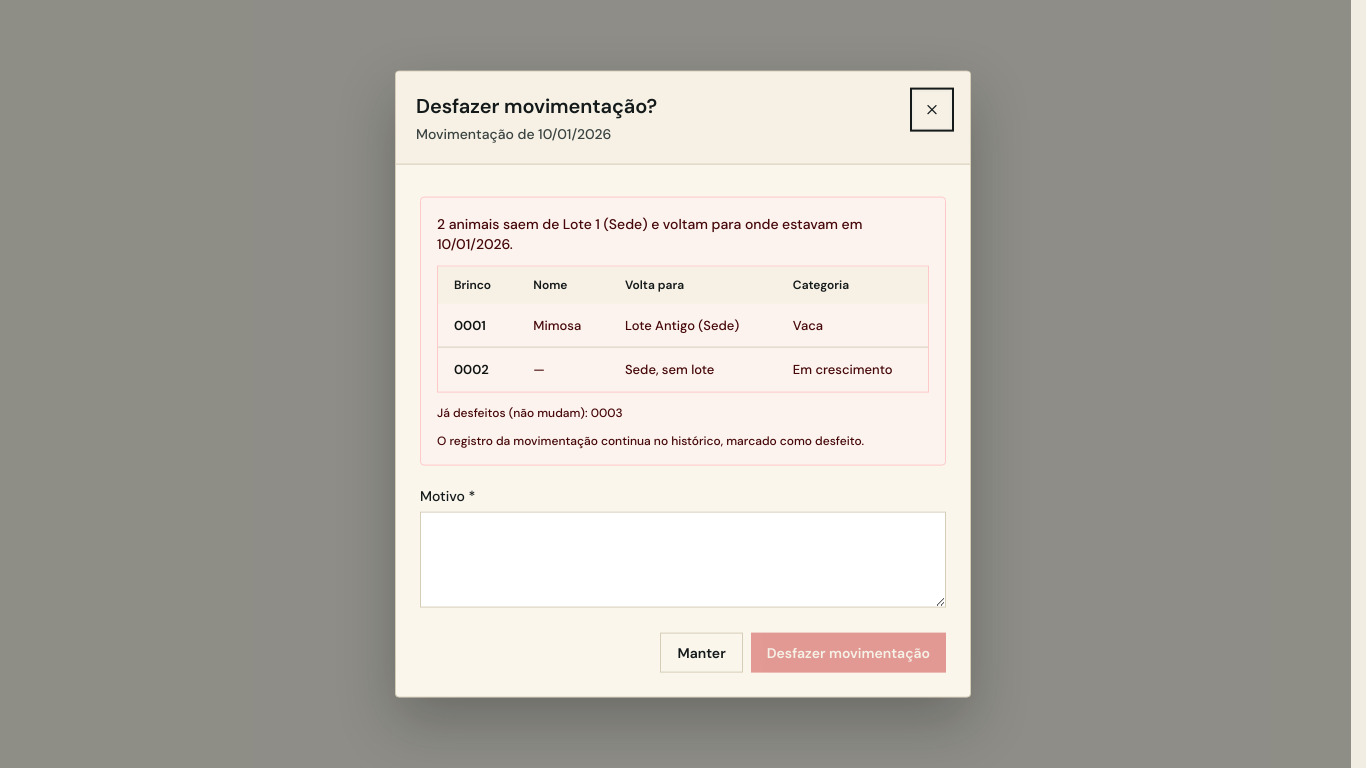
Test: ConfirmarDesfazerMovimentacao › erro 409 do servidor aparece na modal sem fechar
Expected: the button "0001" is shown, [454,315,486,335]
Type "Motivo do estorno" into the text box labelled "Motivo".
click(683, 559); type("Motivo do estorno")  # box [420,511,946,607]
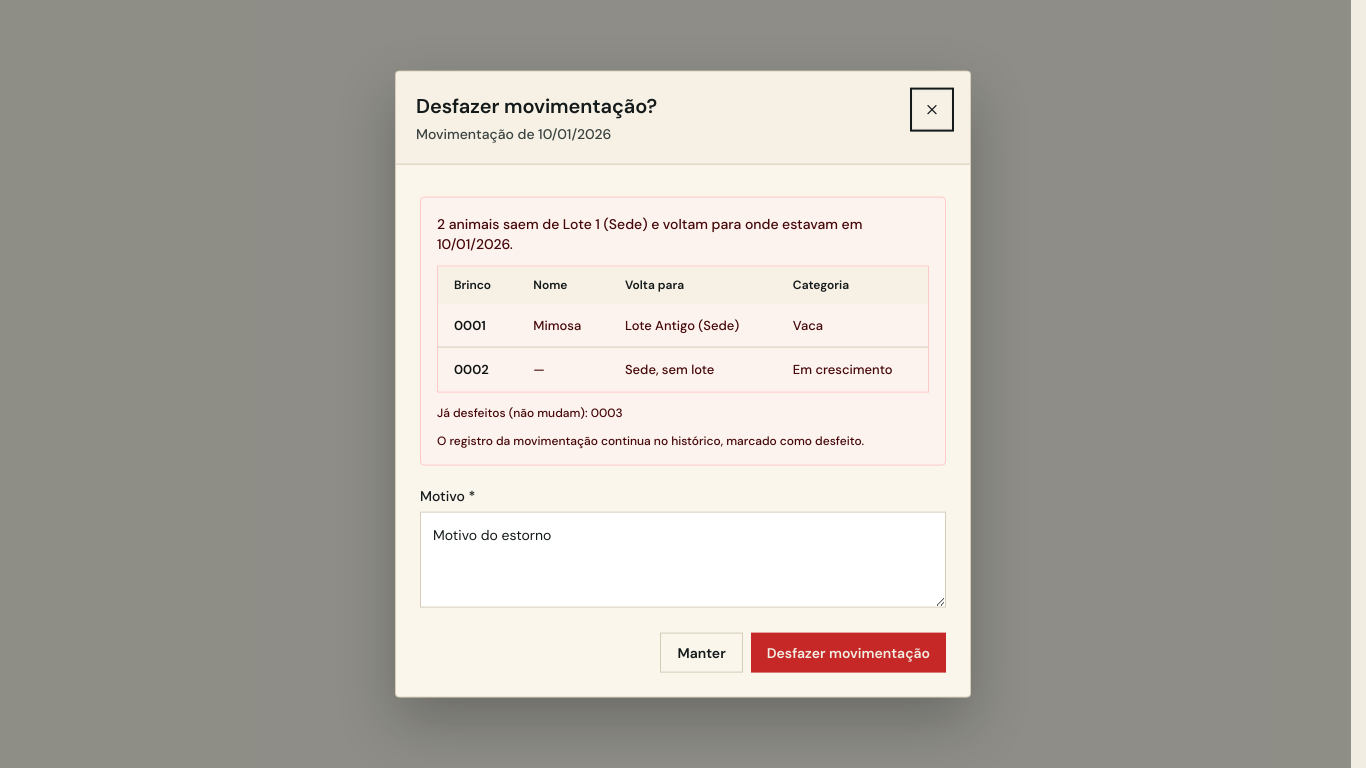
Click the button "Desfazer movimentação".
click(848, 652)  # box [751,632,946,672]
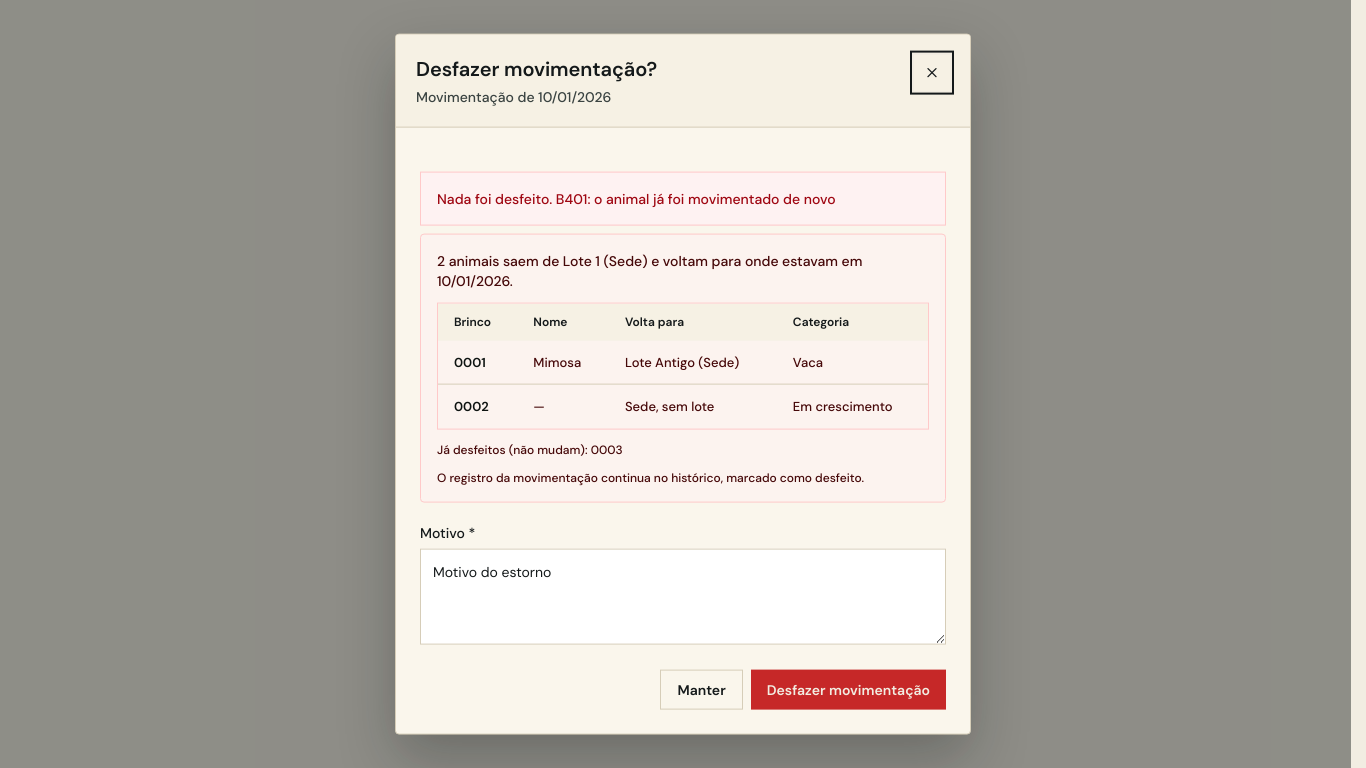
Expected: the dialog is shown, [395,34,971,734]
Now the text "Nada foi desfeito. B401: o animal já foi movimentado de novo" is shown, box [420,172,946,226]
